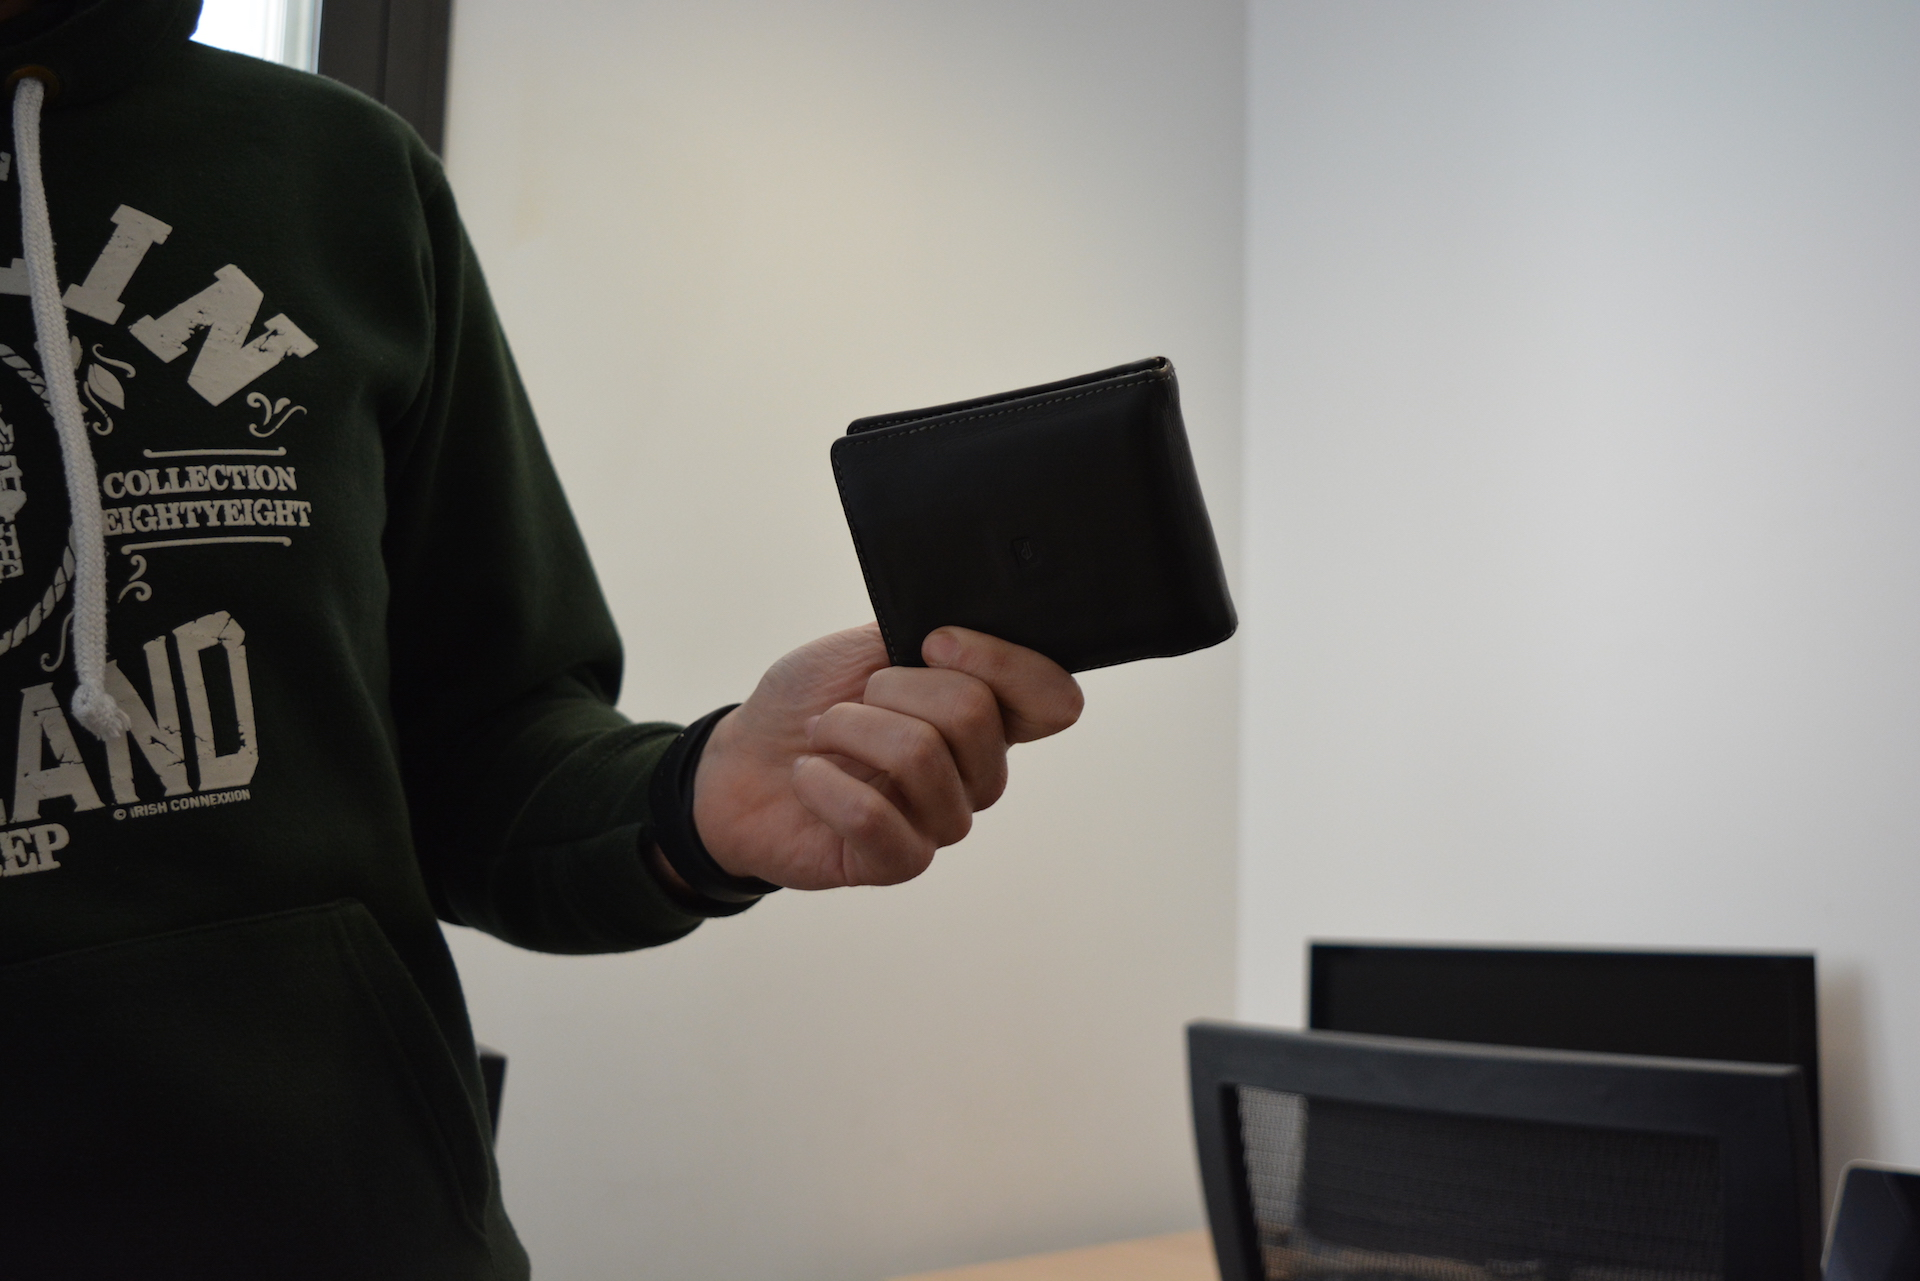monedero: (828, 356, 1242, 678)
